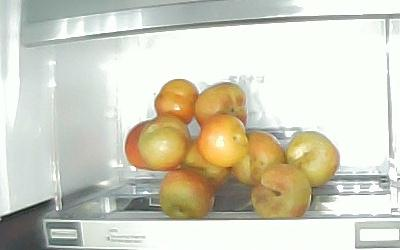prune: (251, 162, 310, 220), (230, 130, 287, 186), (286, 131, 341, 188), (137, 114, 190, 171), (198, 115, 251, 167), (160, 169, 214, 220), (181, 135, 231, 190), (195, 81, 246, 132), (154, 79, 194, 124), (125, 119, 151, 170)
